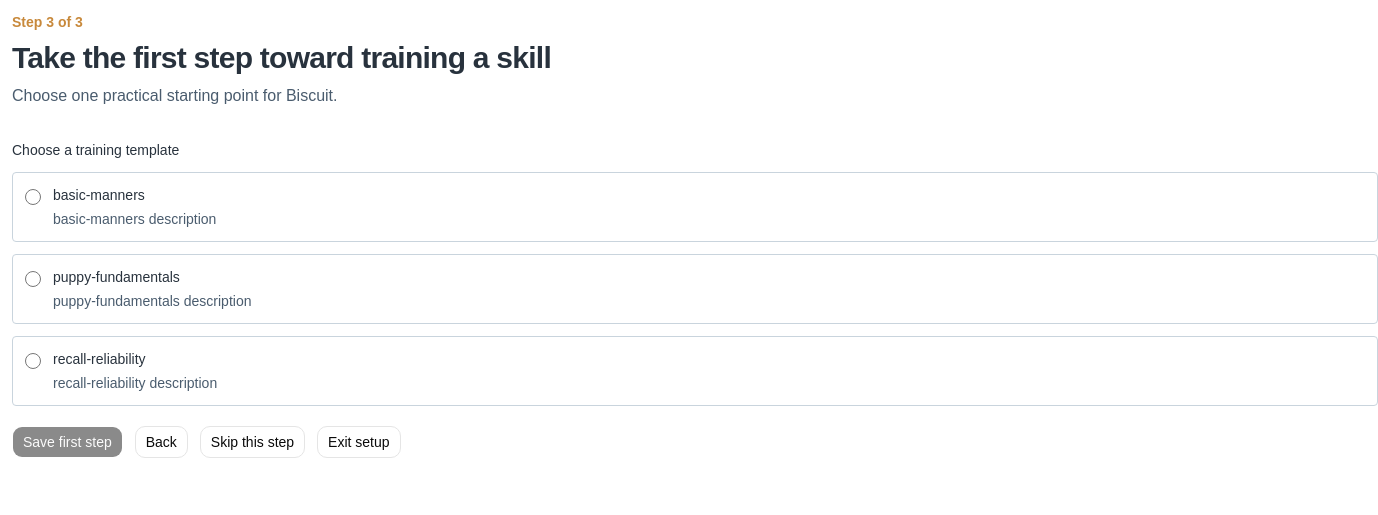
TrainingActionStep › reconciles stale conflicts and shows a safe localized error when status cannot reconcile
Step 1. Click the radio button labelled "basic-manners basic-manners description" → (33, 197), box [25,189,41,205]
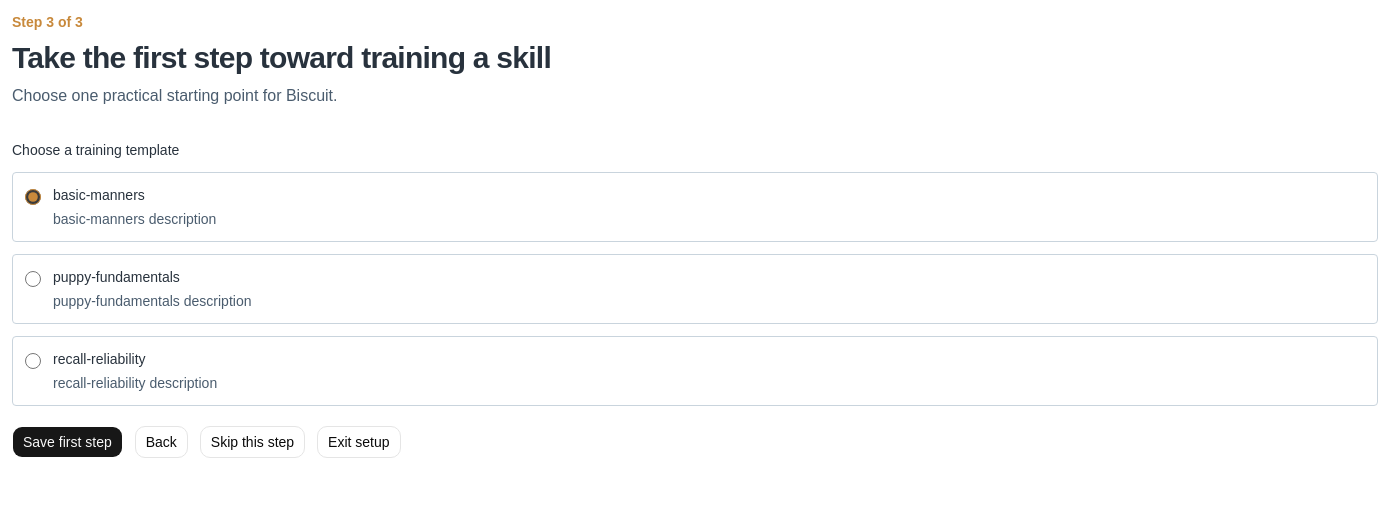
Step 2. Click the button "Save first step" → (67, 442), box [12,426,123,458]
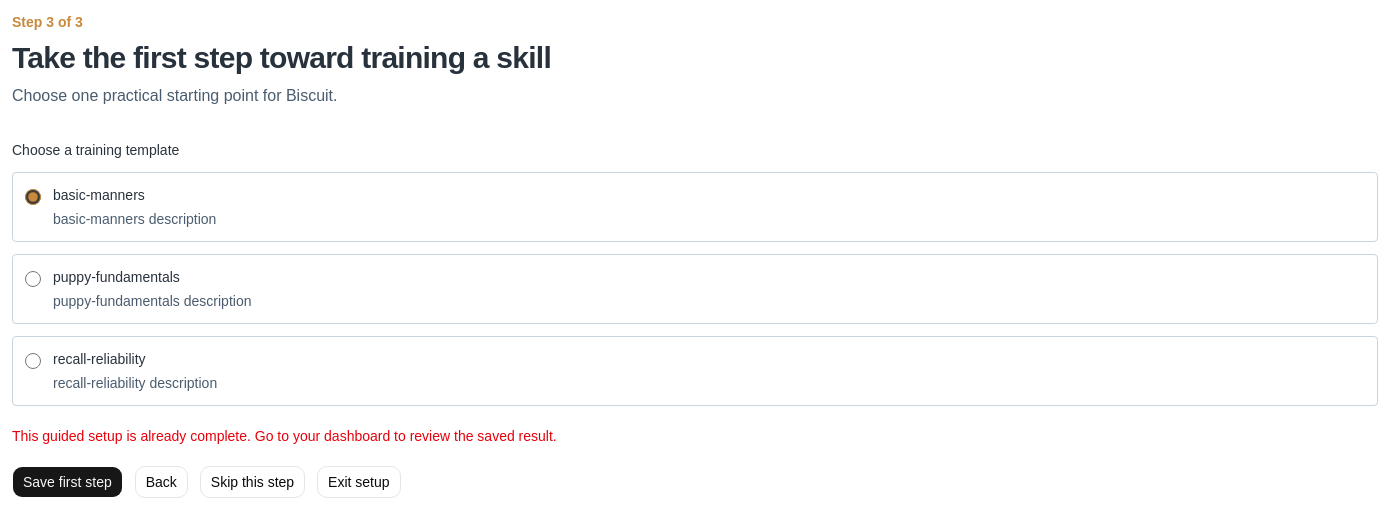
Expected: the radio button labelled "basic-manners basic-manners description" is checked, [25,189,41,205]
Expected: the message shows "This guided setup is already complete. Go to your dashboard to review the saved result.", [12,428,557,444]
